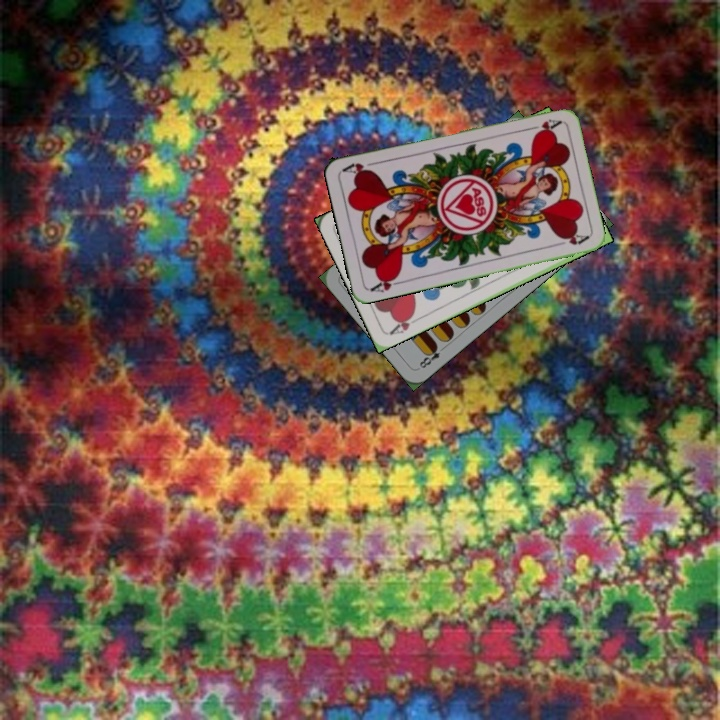E8: (415, 341, 449, 371)
HA: (385, 309, 423, 337), (366, 271, 406, 295), (523, 115, 563, 136)
